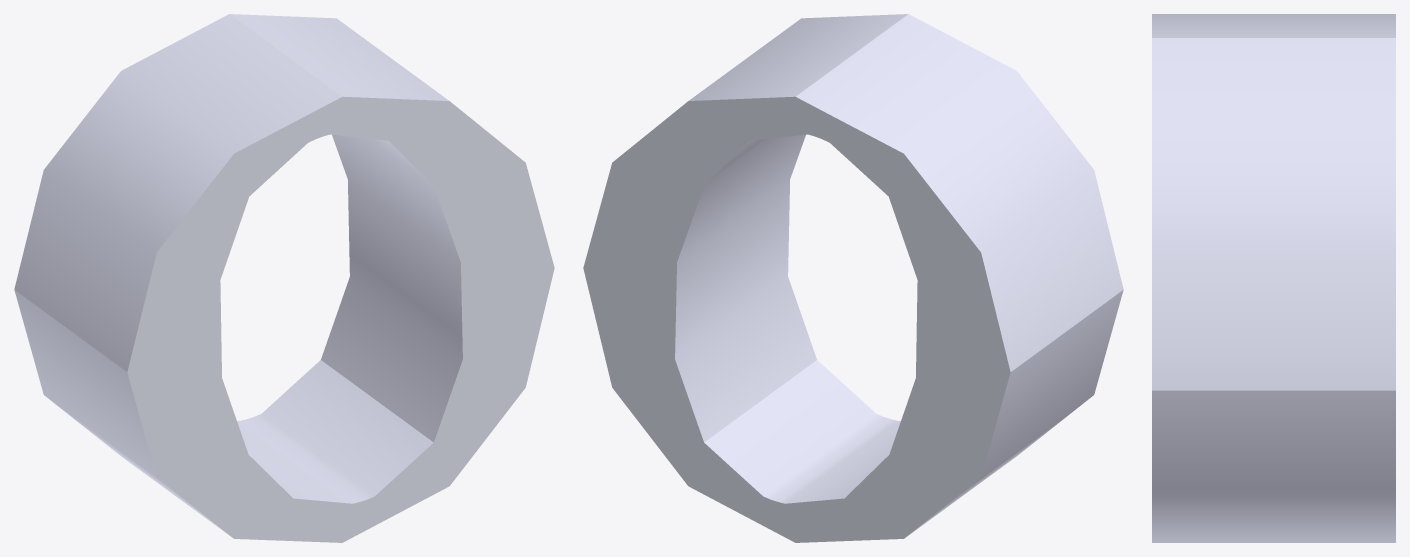
File: O_Soul_Grey.glb
3 renders of one model, left to right at view 1: azimuth 30°, elevation 25°; view 2: azimuth 150°, elevation 25°; view 3: azimuth 270°, elevation 25°, orthographic. The views are drawn at different scales.
Parts seen in each view (by area): view 1: o_Soul_Grey; view 2: o_Soul_Grey; view 3: o_Soul_Grey.
Part boxes in pixels (x1=…): o_Soul_Grey: x1=14, y1=14, x2=554, y2=542; o_Soul_Grey: x1=583, y1=14, x2=1123, y2=542; o_Soul_Grey: x1=1152, y1=14, x2=1395, y2=542.
Size of what is drawn, in the model's own units: 0.0982 by 0.098 by 0.045.
2 materials, 2 textured.
